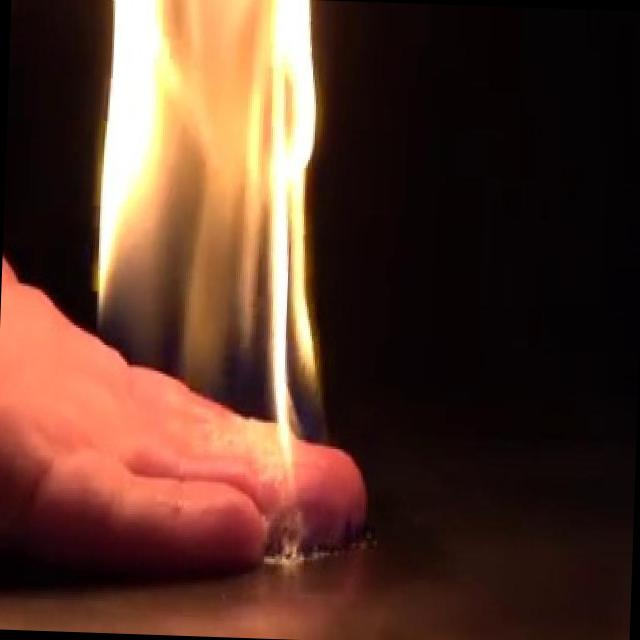Fire: (58, 0, 347, 464)
